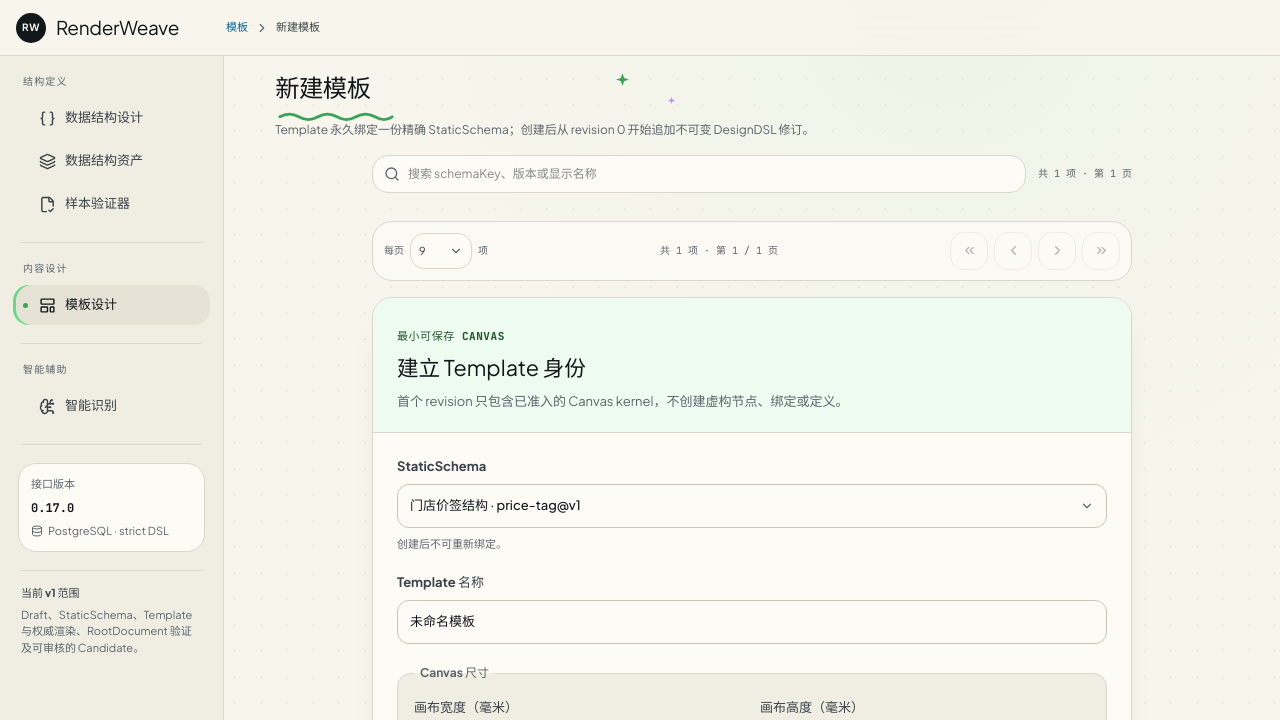
Test case: Template final-product page substrate › preserves intent and refreshes the Template catalog after a transport-unknown create
Replace the text in the field labelled "Template 名称" with "保留这个创建意图" at (752, 622), box [397,600,1107,644]
(page scrolled)
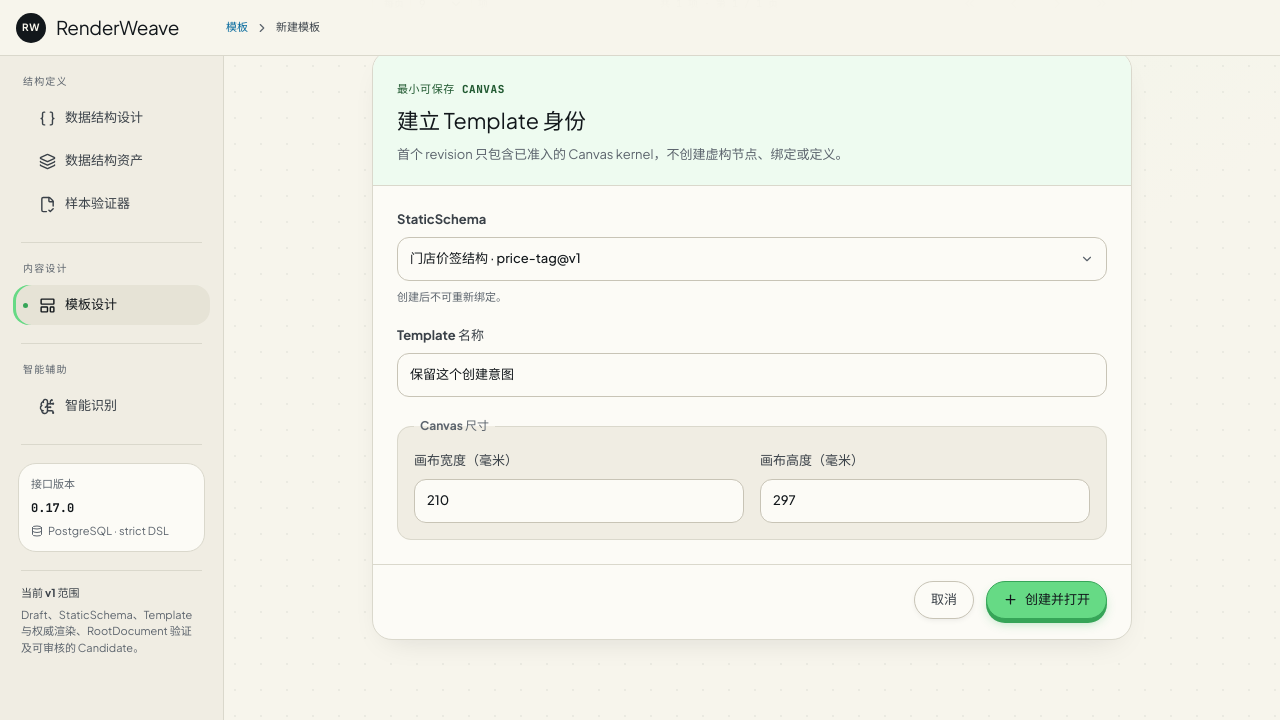
Click the button "创建并打开" at (1046, 600), box [986,581,1107,619]
(page scrolled)
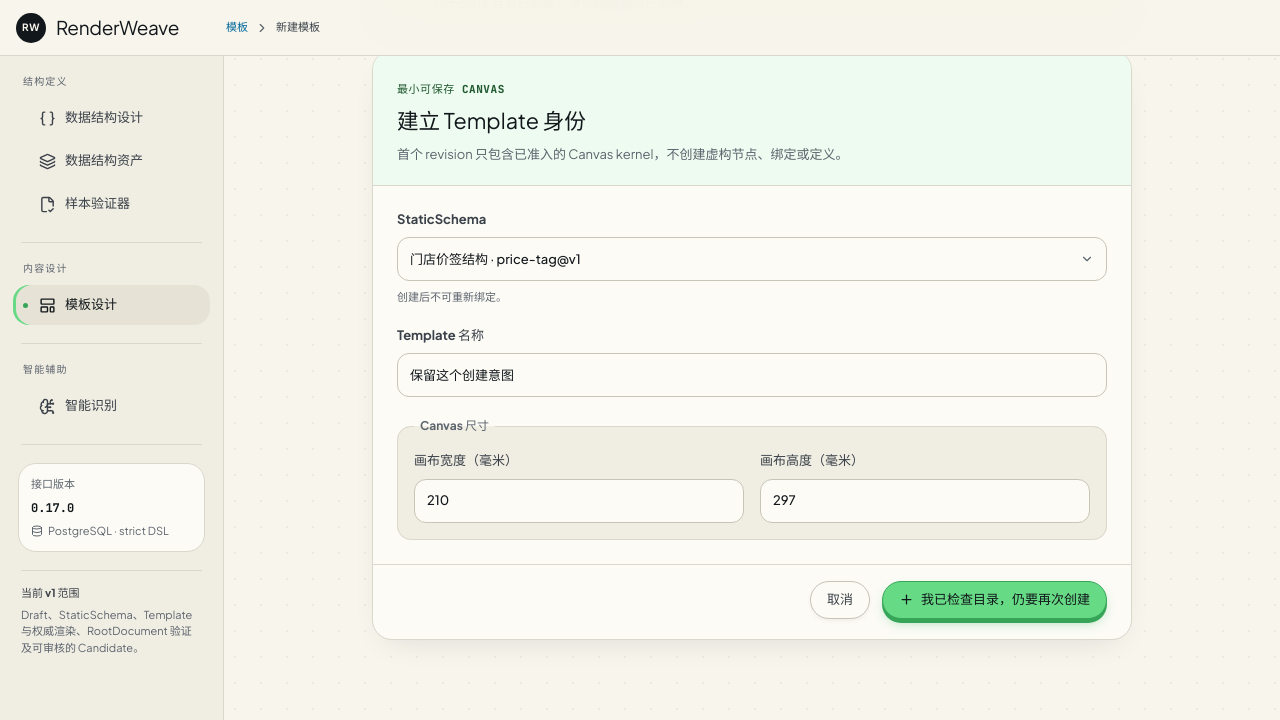
Check: the button "我已检查目录，仍要再次创建" is shown, box [882,581,1107,619]
